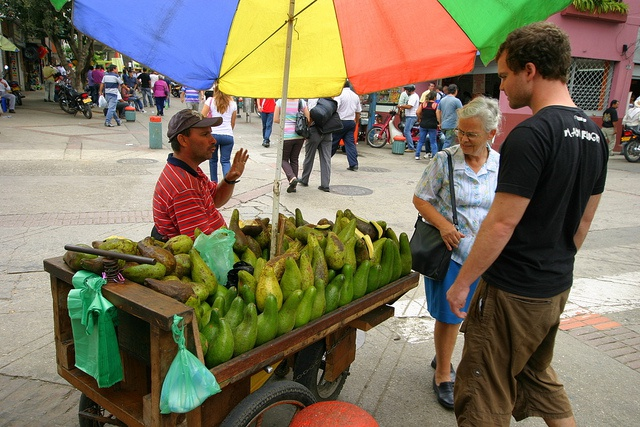non-vehicle: (365, 99, 419, 149), (56, 75, 95, 119), (618, 123, 640, 163)
